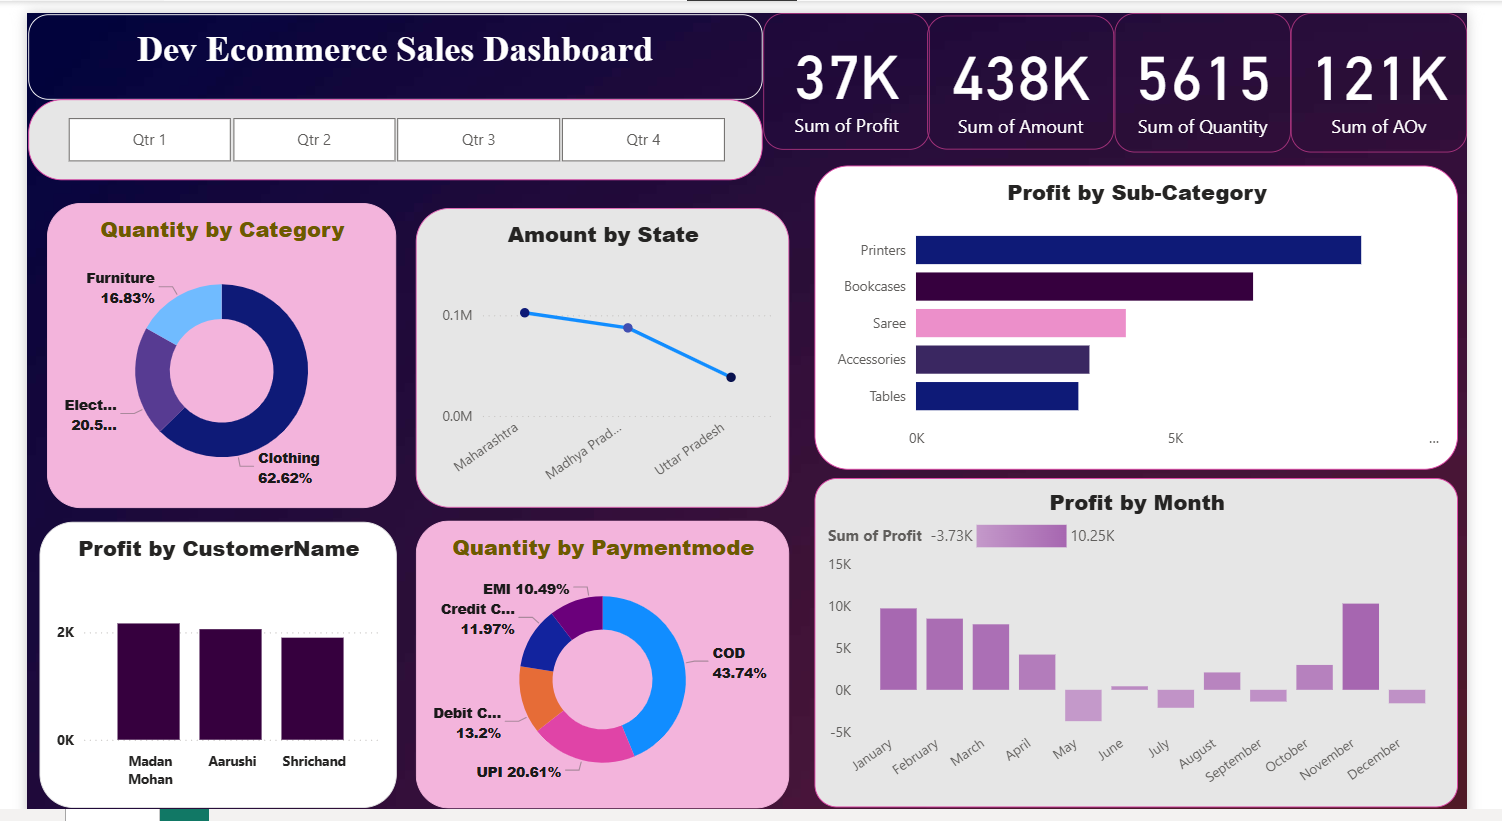

This screenshot's page, from the dashboard's own definition file:
{"tool":"powerbi","page":{"name":"Page 1","canvas":[1280,720],"ordinal":0},"visuals":[{"type":"textbox","box":[1.4,1.4,663.8,75.5],"z":0},{"type":"columnChart","title":" Profit by Month","fields":{"Category":["Orders.Order Date.Variation.Date Hierarchy.Month"],"Y":["Sum(Details.Profit)"]},"box":[700.1,413.6,579.9,306],"z":1000},{"type":"barChart","title":" Profit by Sub-Category","fields":{"Y":["Sum(Details.Profit)"],"Category":["Details.Sub-Category"]},"box":[700.1,135.5,579.9,278.1],"z":2000},{"type":"donutChart","title":"Quantity by Category","fields":{"Category":["Details.Category"],"Y":["Sum(Details.Quantity)"]},"box":[11.2,160.7,322.8,279.5],"z":2001},{"type":"donutChart","title":"Quantity by Paymentmode","fields":{"Y":["Sum(Details.Quantity)"],"Category":["Details.PaymentMode"]},"box":[334,452.8,354.9,266.9],"z":2002},{"type":"card","fields":{"Values":["Sum(Details.Amount)"]},"box":[811.9,0,166.3,121.6],"z":2003},{"type":"card","fields":{"Values":["Sum(Details.Quantity)"]},"box":[978.2,2.8,145.3,120.2],"z":2004},{"type":"card","fields":{"Values":["Sum(Details.Profit)"]},"box":[663.8,0,148.1,121.6],"z":2005},{"type":"card","fields":{"Values":["Sum(Details.AOv)"]},"box":[1123.5,0,156.5,121.6],"z":2006},{"type":"lineChart","title":"Amount by State","fields":{"Category":["Orders.State"],"Y":["Sum(Details.Amount)"]},"box":[345.2,160.7,331.2,279.5],"z":2007},{"type":"clusteredColumnChart","title":"Profit by CustomerName","fields":{"Category":["Orders.CustomerName"],"Y":["Sum(Details.Profit)"]},"box":[11.2,452.8,310.2,266.9],"z":2008},{"type":"slicer","fields":{"Values":["Orders.Order Date.Variation.Date Hierarchy.Quarter"]},"box":[1.4,76.9,662.4,72.7],"z":2009}]}

Visuals, with their boxes in screenshot pixels (x1, y1, x2, y2), scaled from the page's 1280x720 canvas onto the 1502x821 screenshot:
textbox: x1=2, y1=2, x2=781, y2=88
" Profit by Month" columnChart: x1=822, y1=472, x2=1501, y2=820
" Profit by Sub-Category" barChart: x1=822, y1=155, x2=1501, y2=472
"Quantity by Category" donutChart: x1=13, y1=183, x2=392, y2=502
"Quantity by Paymentmode" donutChart: x1=392, y1=516, x2=808, y2=820
card - Sum(Details.Amount): x1=953, y1=0, x2=1148, y2=139
card - Sum(Details.Quantity): x1=1148, y1=3, x2=1318, y2=140
card - Sum(Details.Profit): x1=779, y1=0, x2=953, y2=139
card - Sum(Details.AOv): x1=1318, y1=0, x2=1501, y2=139
"Amount by State" lineChart: x1=405, y1=183, x2=794, y2=502
"Profit by CustomerName" clusteredColumnChart: x1=13, y1=516, x2=377, y2=820
slicer - Orders.Order Date.Variation.Date Hierarchy.Quarter: x1=2, y1=88, x2=779, y2=171
